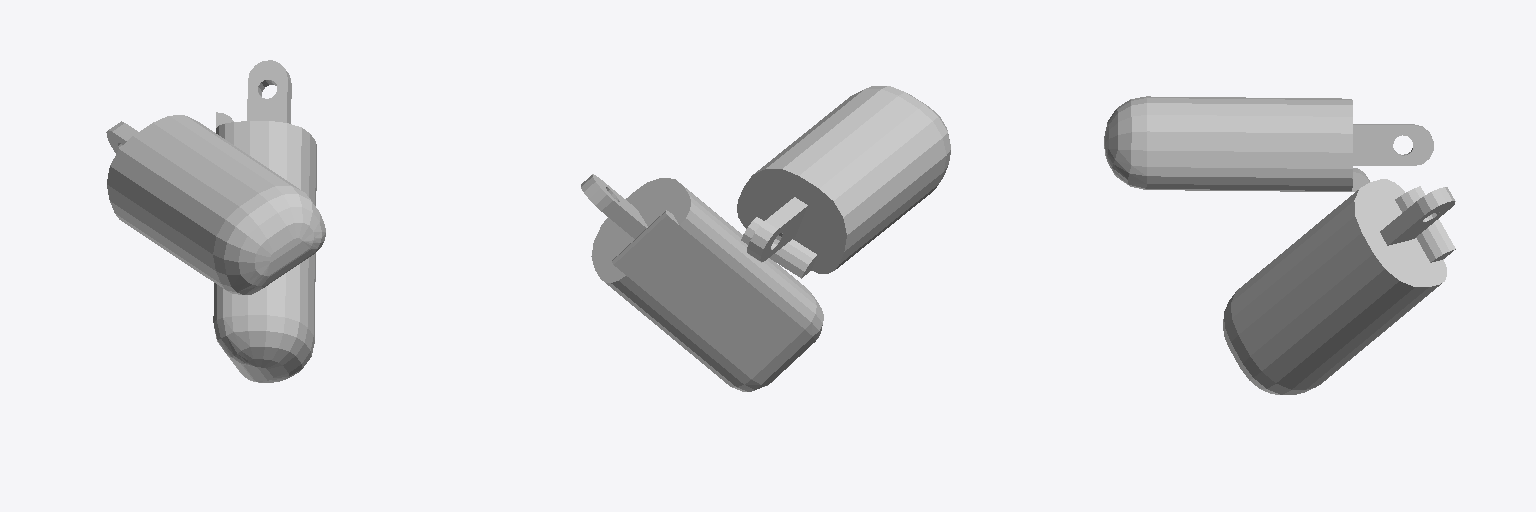
The model's file is TRSY.obj.
3 views of the same model, side by side, from view 1: azimuth 30°, elevation 25°; view 2: azimuth 150°, elevation 25°; view 3: azimuth 270°, elevation 25° (orthographic).
Visible parts, largest first — view 1: fingertop; view 2: fingertop; view 3: fingertop.
Part boxes in pixels (x1,y1,x2,y2): fingertop: (106,60,325,382); fingertop: (581,86,950,391); fingertop: (1104,96,1455,394).
Bounding box in the file's own units: 0.3204 × 0.348 × 0.4272.